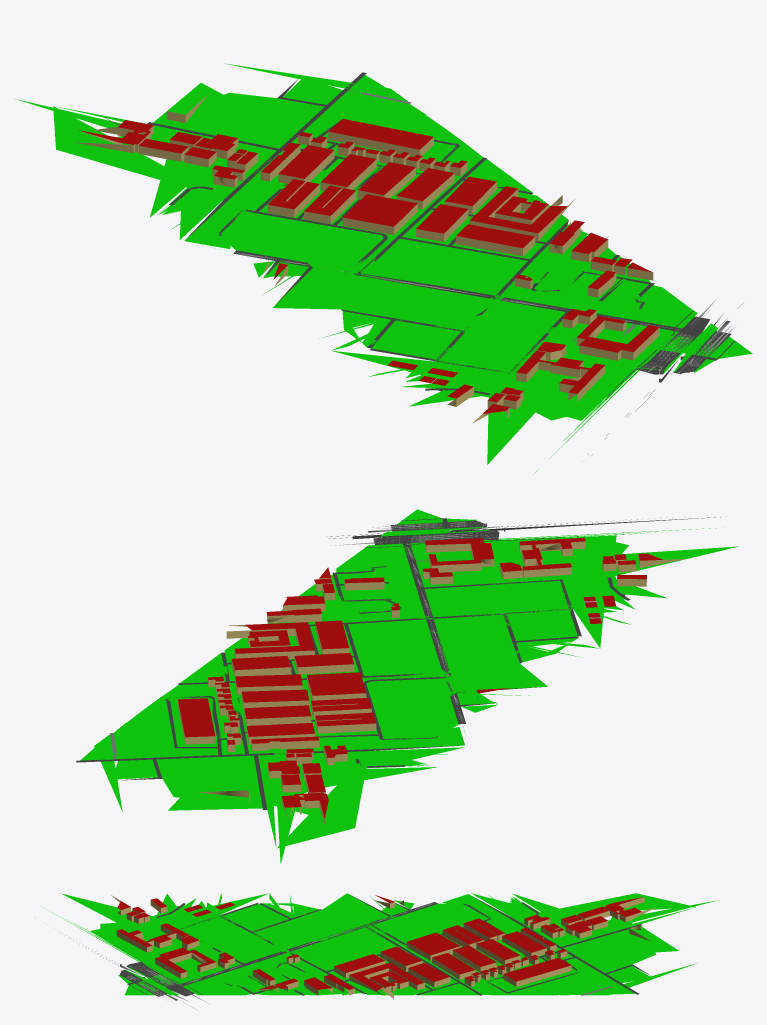
3 views of the same model, one above another, from view 1: azimuth 30°, elevation 25°; view 2: azimuth 150°, elevation 25°; view 3: azimuth 270°, elevation 25° (orthographic). The views are drawn at different scales.
Bounding box in the file's own units: 345 × 10.5 × 917.
